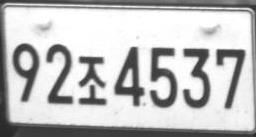2: (45, 43, 74, 104)
3: (182, 47, 210, 108)
4: (113, 46, 144, 107)
5: (149, 46, 177, 109)
7: (215, 48, 246, 109)
9: (12, 42, 39, 102)
조: (78, 55, 106, 105)
